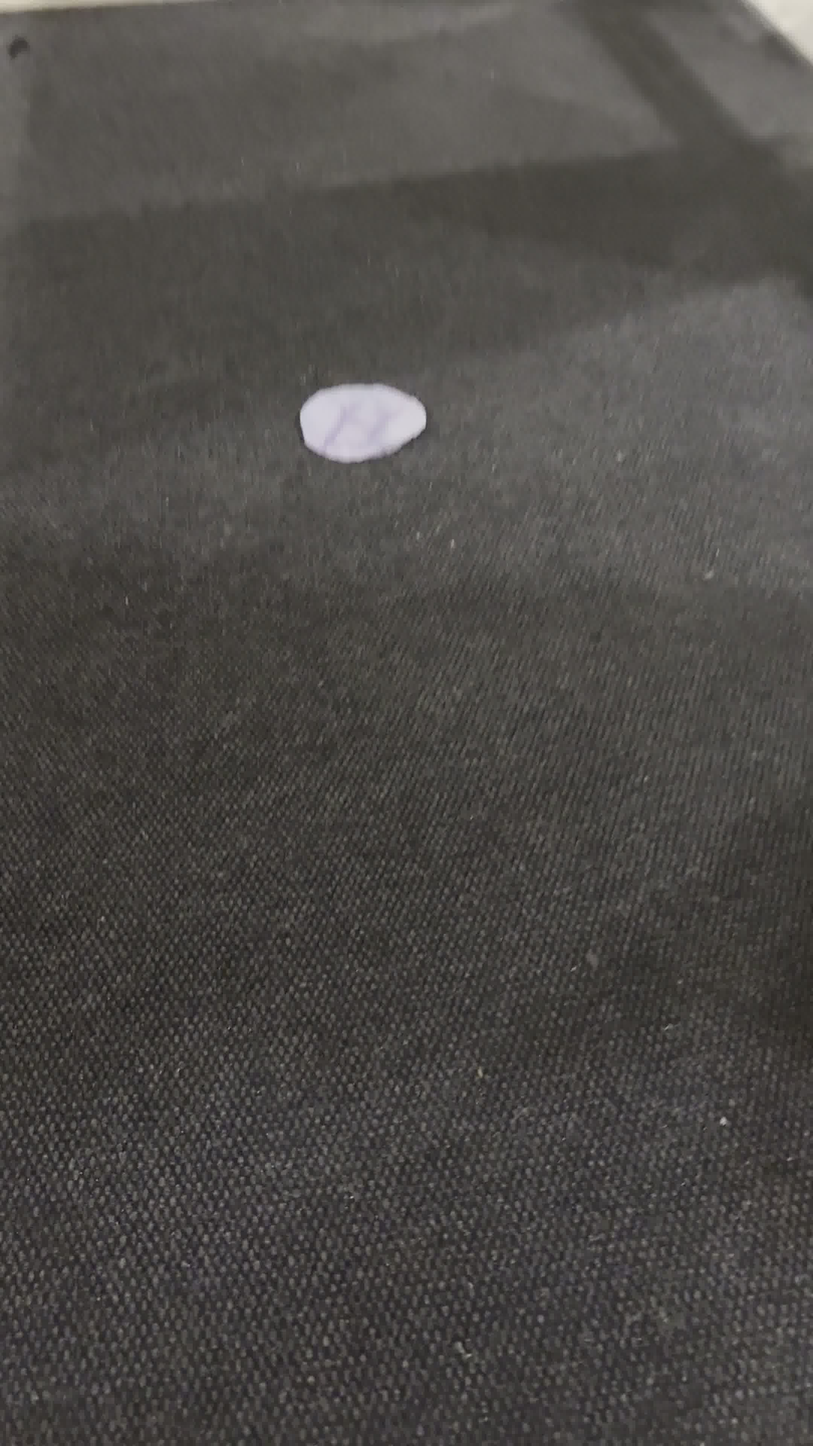Target: (300, 384, 425, 464)
